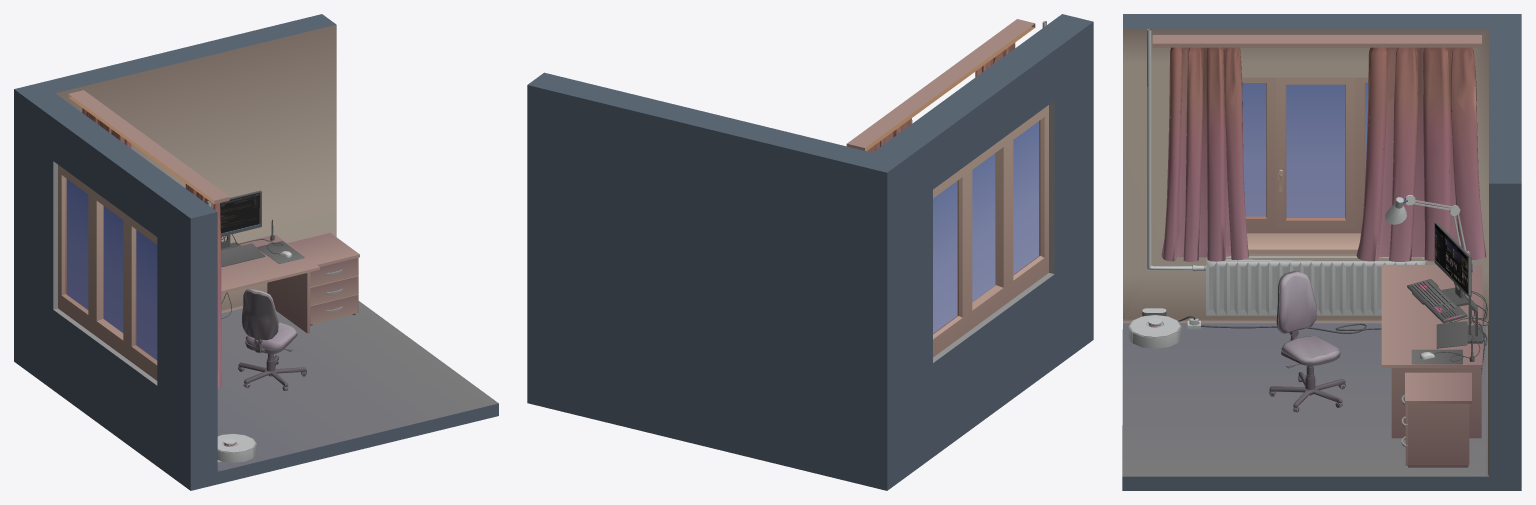
Rendered from room_updated.glb.
3 views of the same model, side by side, from view 1: azimuth 30°, elevation 25°; view 2: azimuth 150°, elevation 25°; view 3: azimuth 270°, elevation 25° (orthographic). The views are drawn at different scales.
Visible parts, largest first — view 1: body1, window4, window, table, cabin, railing, chair_body, _________6_blinn1_0, pPlane2, vacuum1, pillows, tablet (+1 smaller); view 2: body1, window4, window, railing; view 3: body1, _________6_blinn1_0, window4, window, radiator, table, cabin, railing, pillows, vacuum1, chair_body, radiator_blinn1_0.001 (+8 smaller).
Part boxes in pixels (x1,y1,x2,y2): body1: (14, 14, 498, 490); window4: (66, 179, 157, 359); window: (58, 165, 157, 380); table: (221, 234, 319, 333); cabin: (287, 233, 359, 325); railing: (68, 90, 229, 204); chair_body: (238, 290, 306, 390); _________6_blinn1_0: (82, 108, 222, 387); pPlane2: (220, 193, 259, 233); vacuum1: (217, 434, 256, 462); pillows: (245, 289, 296, 349); tablet: (221, 243, 265, 266); body1: (527, 14, 1093, 490); window4: (933, 121, 1039, 333); window: (933, 105, 1048, 357); railing: (846, 19, 1035, 151); body1: (1122, 14, 1521, 490); _________6_blinn1_0: (1161, 47, 1486, 261); window4: (1242, 82, 1368, 217); window: (1242, 77, 1368, 253); radiator: (1206, 256, 1426, 315); table: (1381, 265, 1482, 438); cabin: (1405, 372, 1471, 467); railing: (1152, 35, 1481, 47); pillows: (1278, 271, 1339, 362); vacuum1: (1128, 308, 1198, 348); chair_body: (1269, 271, 1345, 412); radiator_blinn1_0.001: (1147, 28, 1205, 271).
Size of the model in its own units: 6.68 by 5.66 by 6.65.
Materials: 4 (2 with a texture image).
